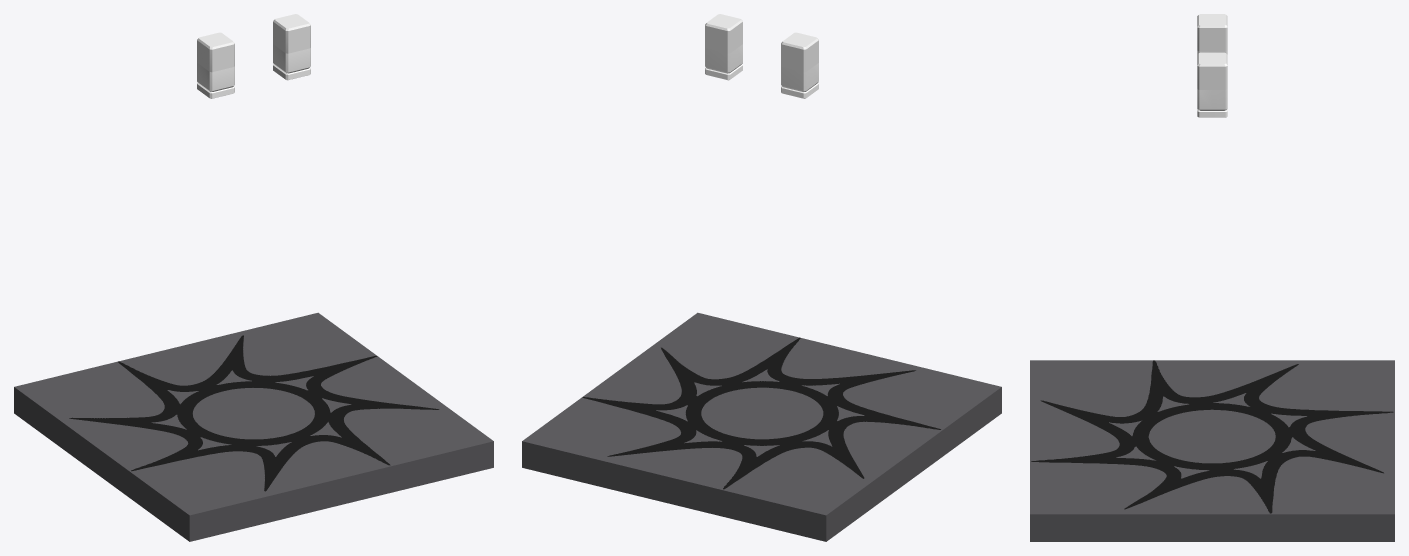
3 renders of one model, left to right at view 1: azimuth 30°, elevation 25°; view 2: azimuth 150°, elevation 25°; view 3: azimuth 270°, elevation 25°, orthographic. The views are drawn at different scales.
Parts seen in each view (by area): view 1: Spawnlocation1, Spawnlocation2, Dummy4, Dummy1, Dummy2, Dummy5; view 2: Spawnlocation1, Spawnlocation2, Dummy4, Dummy1, Dummy2, Dummy5; view 3: Spawnlocation1, Spawnlocation2, Dummy1, Dummy4, Dummy2.
Part boxes in pixels (x1,y1,x2,y2): Spawnlocation1: (14,312,493,541); Spawnlocation2: (69,335,439,491); Dummy4: (197,32,234,72); Dummy1: (273,14,310,53); Dummy2: (273,44,310,73); Dummy5: (197,63,234,91); Spawnlocation1: (522,312,1001,541); Spawnlocation2: (582,337,940,489); Dummy4: (781,32,818,72); Dummy1: (705,14,742,53); Dummy2: (705,44,742,73); Dummy5: (781,63,818,91); Spawnlocation1: (1030,360,1394,541); Spawnlocation2: (1031,360,1393,513); Dummy1: (1197,52,1227,89); Dummy4: (1197,14,1227,51); Dummy2: (1197,89,1227,110).
Size of what is drawn, in the model's own units: 12 by 15.45 by 12.
Materials: 3 (1 with a texture image).
